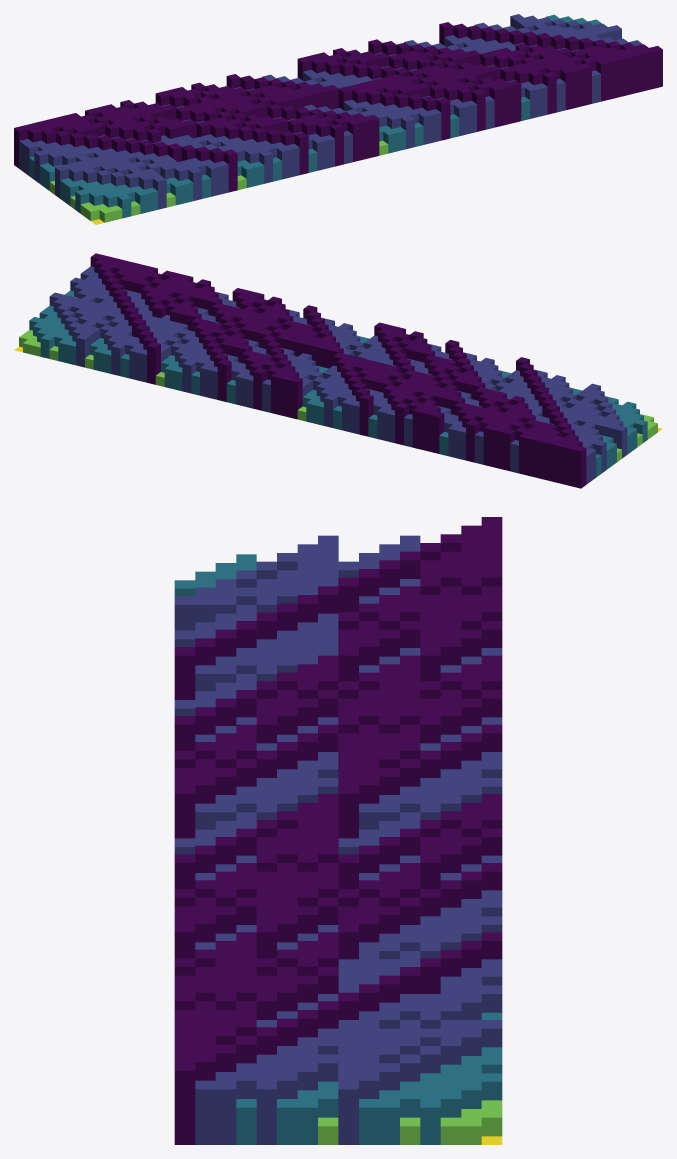
3 renders of one model, top to bottom at view 1: azimuth 30°, elevation 25°; view 2: azimuth 150°, elevation 25°; view 3: azimuth 270°, elevation 25°, orthographic. The views are drawn at different scales.
Visible parts, largest first — view 1: Object(40,16)[length_4], Object(16,16)[length_4], Object(46,16)[length_4], Object(52,16)[length_4], Object(54,16)[length_4], Object(24,16)[length_4], Object(30,16)[length_4], Object(44,16)[length_4], Object(28,16)[length_4], Object(58,16)[length_4], Object(59,16)[length_4], Object(48,16)[length_4] (+22 smaller); view 2: Object(1,1)[length_4], Object(33,1)[length_4], Object(49,1)[length_4], Object(17,1)[length_4], Object(25,1)[length_4], Object(41,1)[length_4], Object(9,1)[length_4], Object(37,1)[length_4], Object(13,1)[length_4], Object(21,1)[length_4], Object(2,1)[length_4], Object(3,1)[length_4] (+14 smaller); view 3: Object(64,16)[length_4], Object(64,14)[length_3], Object(64,8)[length_3], Object(64,15)[length_3], Object(64,12)[length_3], Object(32,16)[length_4], Object(16,16)[length_4], Object(32,8)[length_4], Object(64,4)[length_2], Object(64,6)[length_2], Object(64,7)[length_2], Object(64,10)[length_2] (+2 smaller).
Boxes of the visible parts, box(x1,y1,x2,y2) form: Object(40,16)[length_4]: box(436, 98, 450, 140); Object(16,16)[length_4]: box(223, 149, 237, 192); Object(46,16)[length_4]: box(489, 84, 503, 127); Object(52,16)[length_4]: box(542, 71, 556, 114); Object(54,16)[length_4]: box(560, 67, 574, 109); Object(24,16)[length_4]: box(294, 132, 308, 174); Object(30,16)[length_4]: box(347, 119, 361, 161); Object(44,16)[length_4]: box(471, 89, 485, 131); Object(28,16)[length_4]: box(330, 123, 343, 166); Object(58,16)[length_4]: box(596, 58, 609, 101); Object(59,16)[length_4]: box(605, 56, 618, 99); Object(48,16)[length_4]: box(507, 80, 521, 123); Object(1,1)[length_4]: box(572, 445, 586, 488); Object(33,1)[length_4]: box(288, 376, 302, 419); Object(49,1)[length_4]: box(147, 342, 160, 384); Object(17,1)[length_4]: box(430, 411, 444, 453); Object(25,1)[length_4]: box(359, 394, 373, 436); Object(41,1)[length_4]: box(217, 359, 231, 401); Object(9,1)[length_4]: box(501, 428, 515, 471); Object(37,1)[length_4]: box(253, 368, 267, 410); Object(13,1)[length_4]: box(466, 420, 479, 462); Object(21,1)[length_4]: box(395, 402, 408, 445); Object(2,1)[length_4]: box(563, 443, 576, 486); Object(3,1)[length_4]: box(554, 441, 567, 483); Object(64,16)[length_4]: box(174, 1062, 195, 1144); Object(64,14)[length_3]: box(215, 1080, 236, 1144); Object(64,8)[length_3]: box(338, 1080, 358, 1144); Object(64,15)[length_3]: box(195, 1080, 215, 1144); Object(64,12)[length_3]: box(256, 1080, 276, 1144); Object(32,16)[length_4]: box(174, 785, 195, 838); Object(16,16)[length_4]: box(174, 647, 195, 699); Object(32,8)[length_4]: box(338, 785, 358, 838); Object(64,4)[length_2]: box(420, 1099, 440, 1144); Object(64,6)[length_2]: box(379, 1099, 399, 1144); Object(64,7)[length_2]: box(359, 1099, 379, 1144); Object(64,10)[length_2]: box(297, 1099, 317, 1144).
Bounding box in the file's own units: 64 × 4 × 16.
